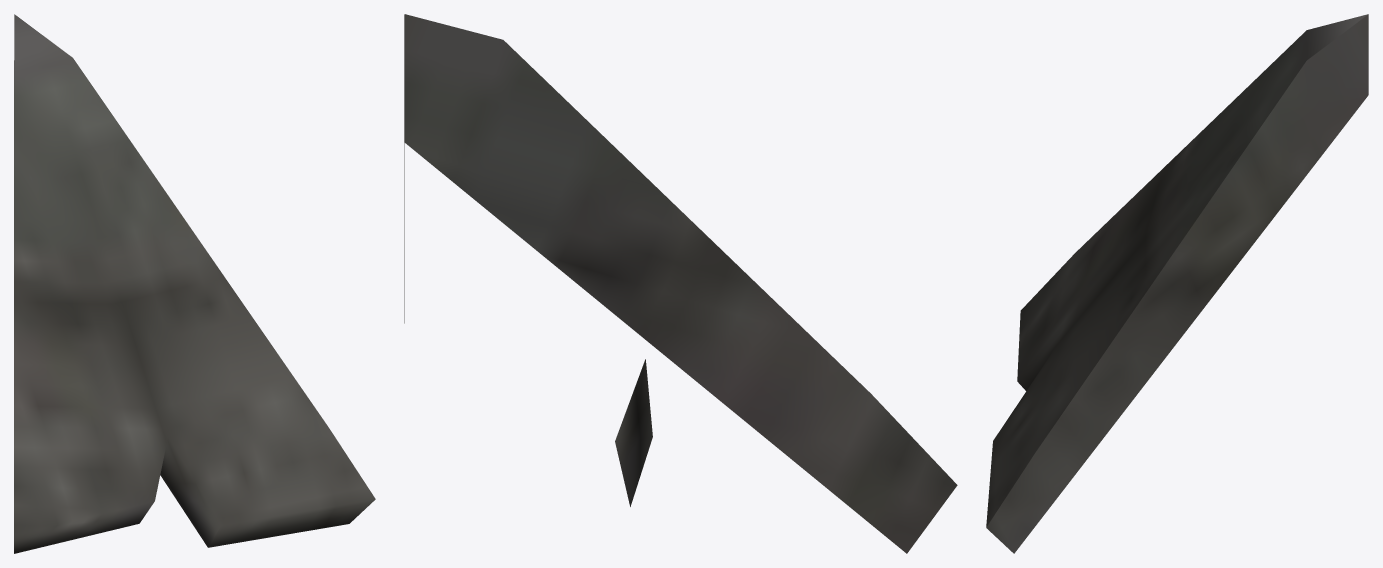
File: roof.triangle.stone.up.top.line.glb
3 renders of one model, left to right at view 1: azimuth 30°, elevation 25°; view 2: azimuth 150°, elevation 25°; view 3: azimuth 270°, elevation 25°, orthographic. The views are drawn at different scales.
Visible parts, largest first — view 1: model; view 2: model; view 3: model.
Part boxes in pixels (box(x1,y1,x2,y2)): model: box(14, 14, 375, 553); model: box(404, 14, 957, 553); model: box(986, 14, 1368, 553).
Bounding box in the file's own units: 0.5617 × 0.6654 × 0.509.
Materials: 1 (1 with a texture image).
